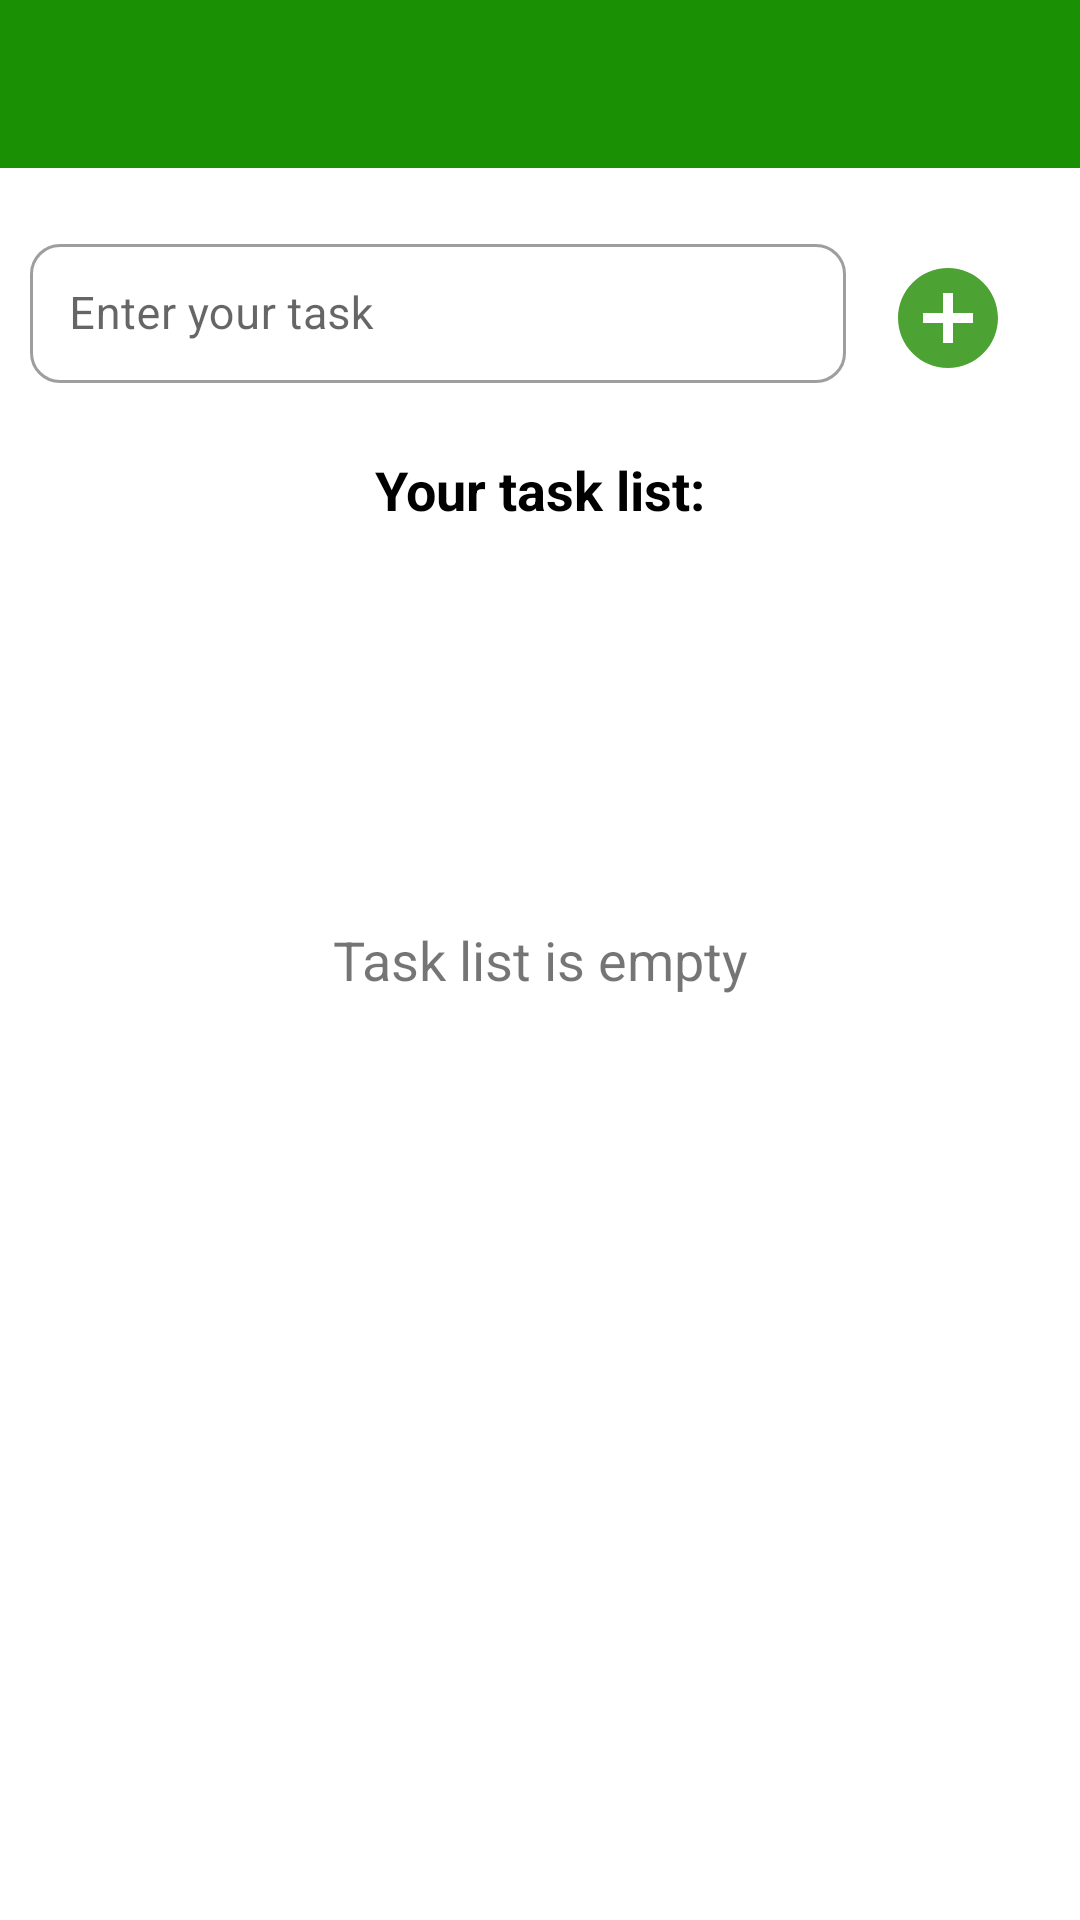

Named icons in this screenshot (1080 x 1920) and their bounding boxes, [x1,y1,x2,y2]:
add task: [898,268,998,368]
